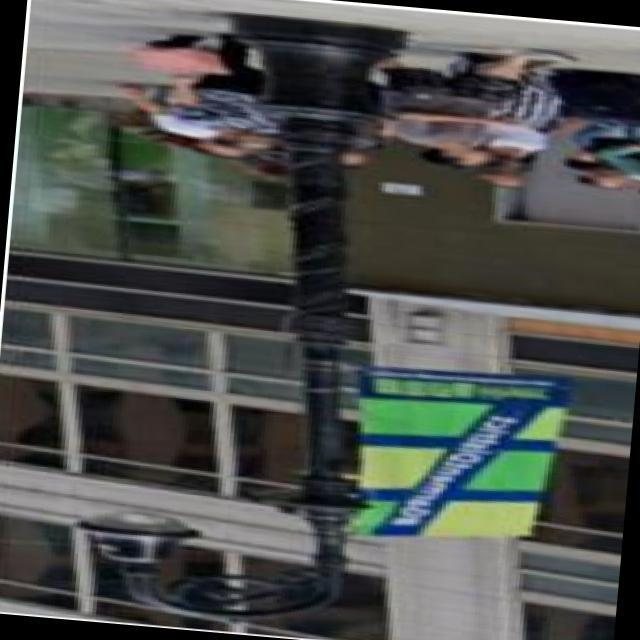off: (40, 466, 256, 632)
